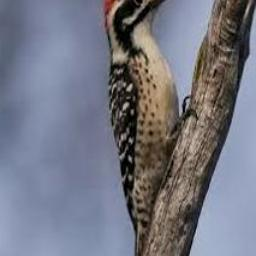Woodpecker: (101, 0, 197, 256)
